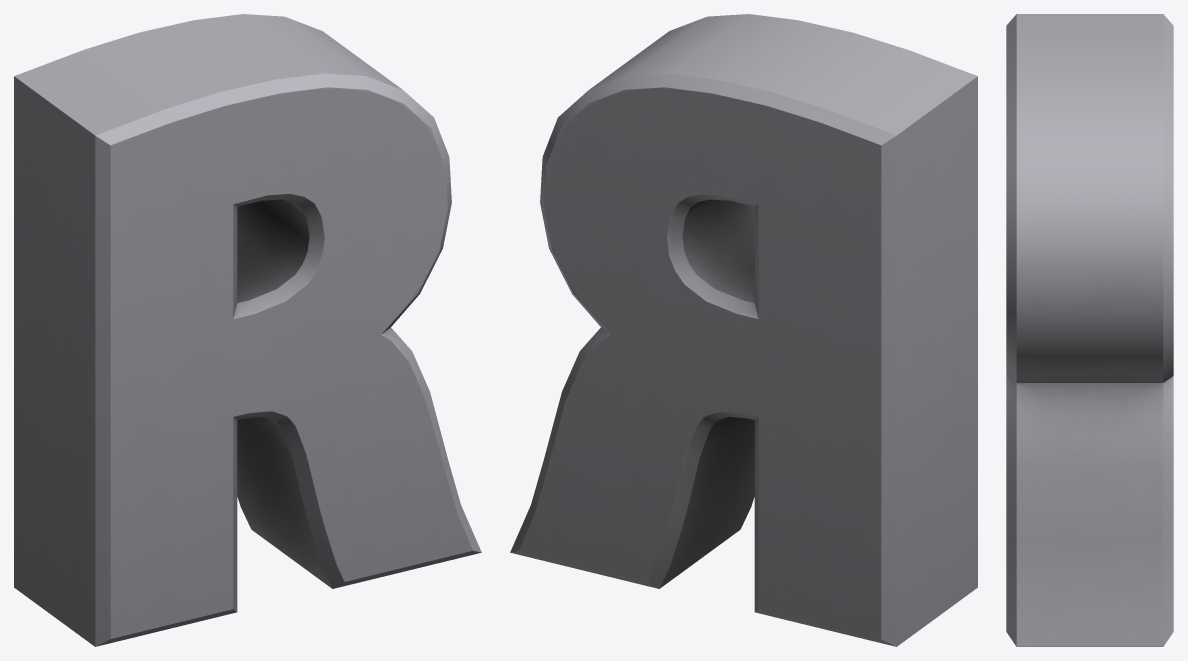
The model's file is R_static.fbx.
3 views of the same model, side by side, from view 1: azimuth 30°, elevation 25°; view 2: azimuth 150°, elevation 25°; view 3: azimuth 270°, elevation 25° (orthographic). The views are drawn at different scales.
Visible parts, largest first — view 1: R_static; view 2: R_static; view 3: R_static.
Part boxes in pixels (x1,y1,x2,y2): R_static: [14, 14, 481, 646]; R_static: [510, 14, 977, 646]; R_static: [1006, 14, 1173, 646].
Size of the model in its own units: 79.75 by 103 by 33.
